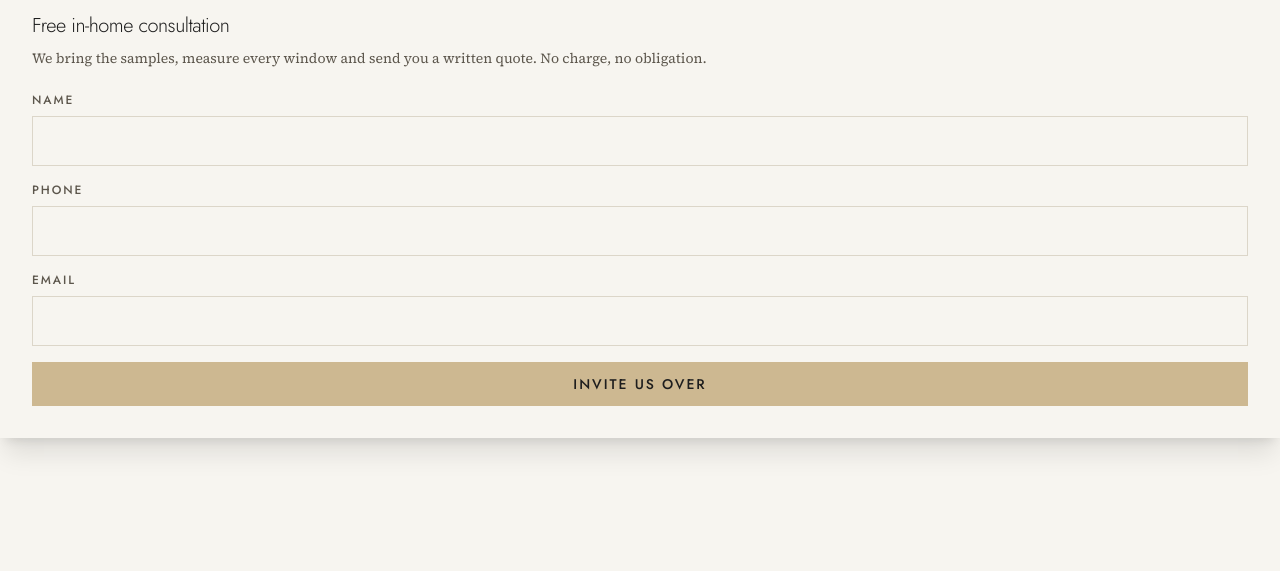
Scenario: HeroForm › shows an accessible error and never reaches the network on a short phone
Type "Dana Reyes" into the field labelled "Name" at [640, 141], box [32,116,1248,166]
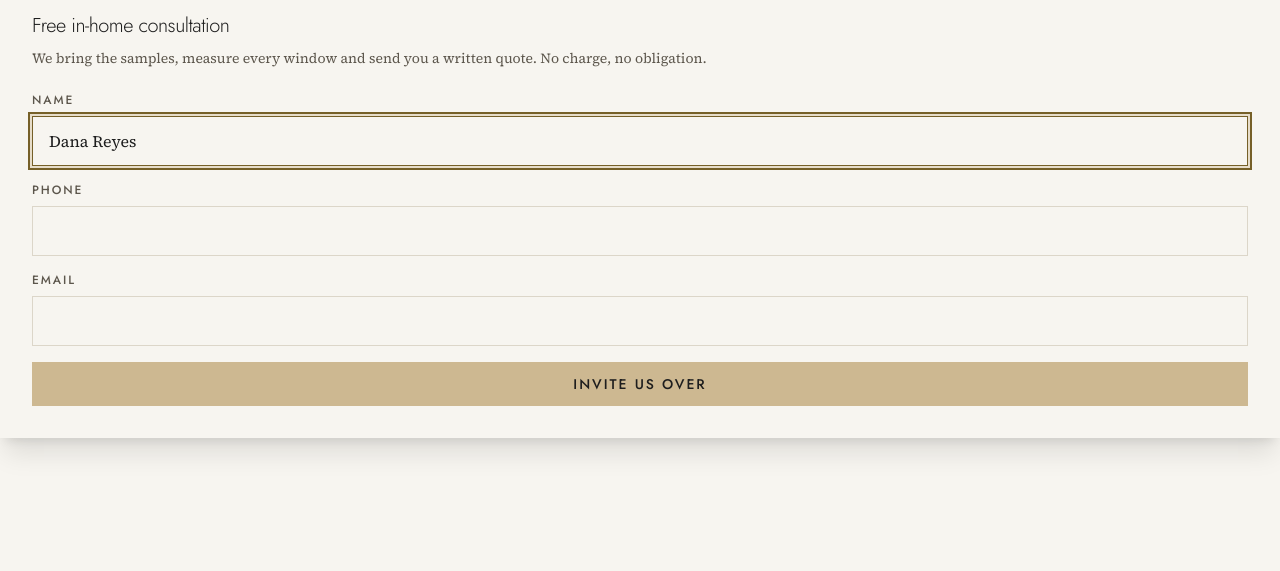
Type "555" into the field labelled "Phone" at [640, 231], box [32,206,1248,256]
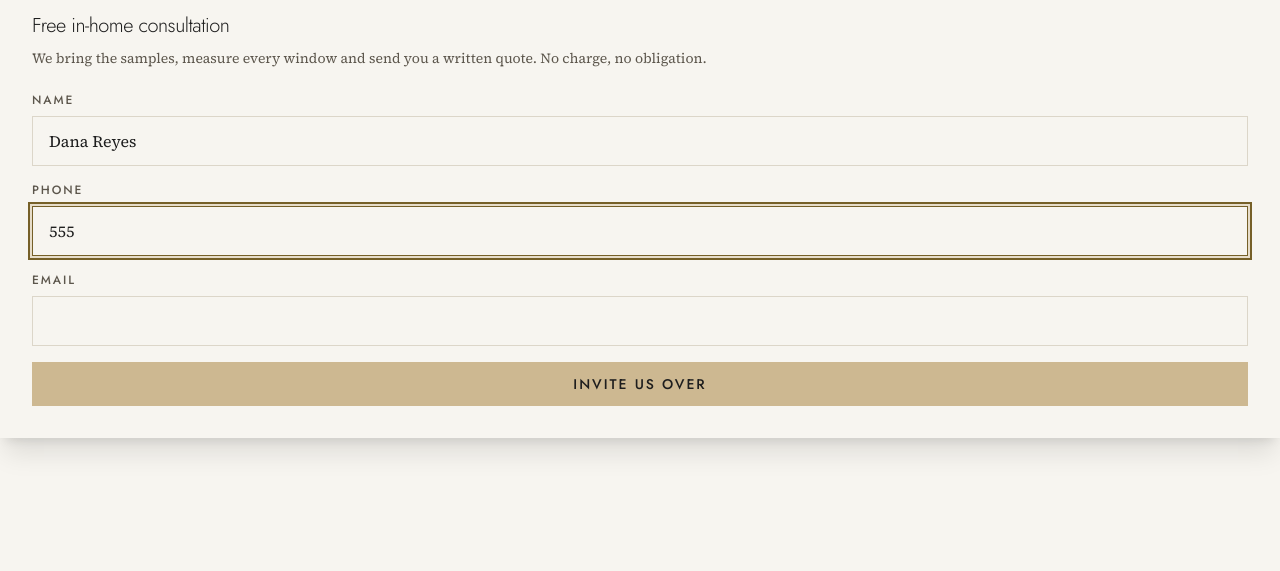
Type "dana@example.com" into the field labelled "Email" at [640, 321], box [32,296,1248,346]
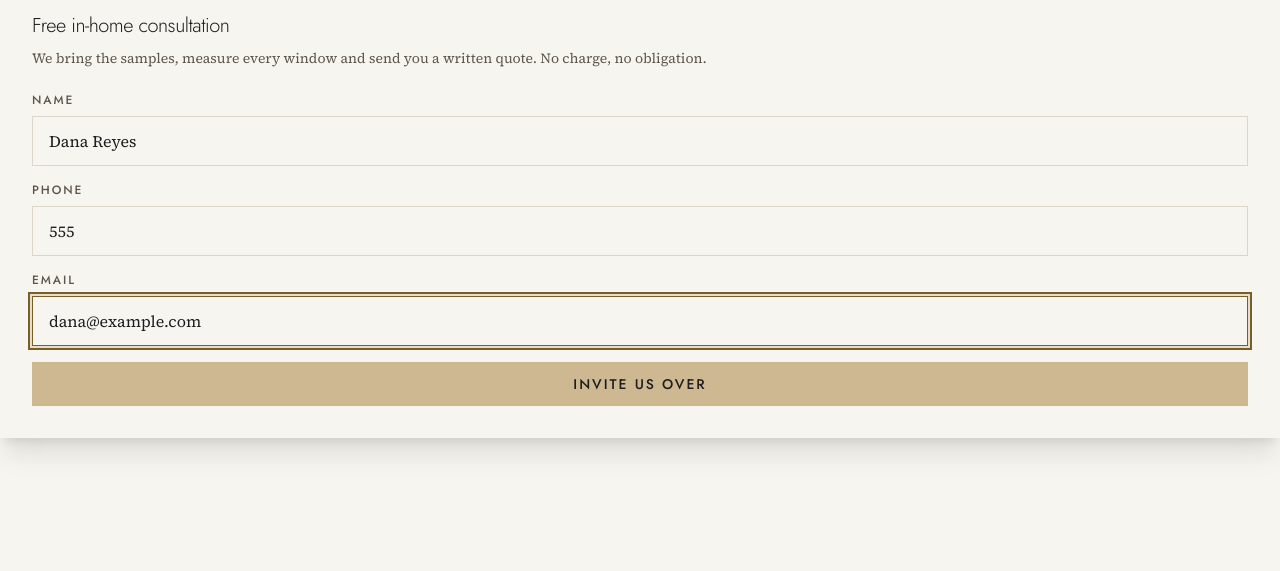
Click the button "Invite Us Over" at [640, 384], box [32,362,1248,406]
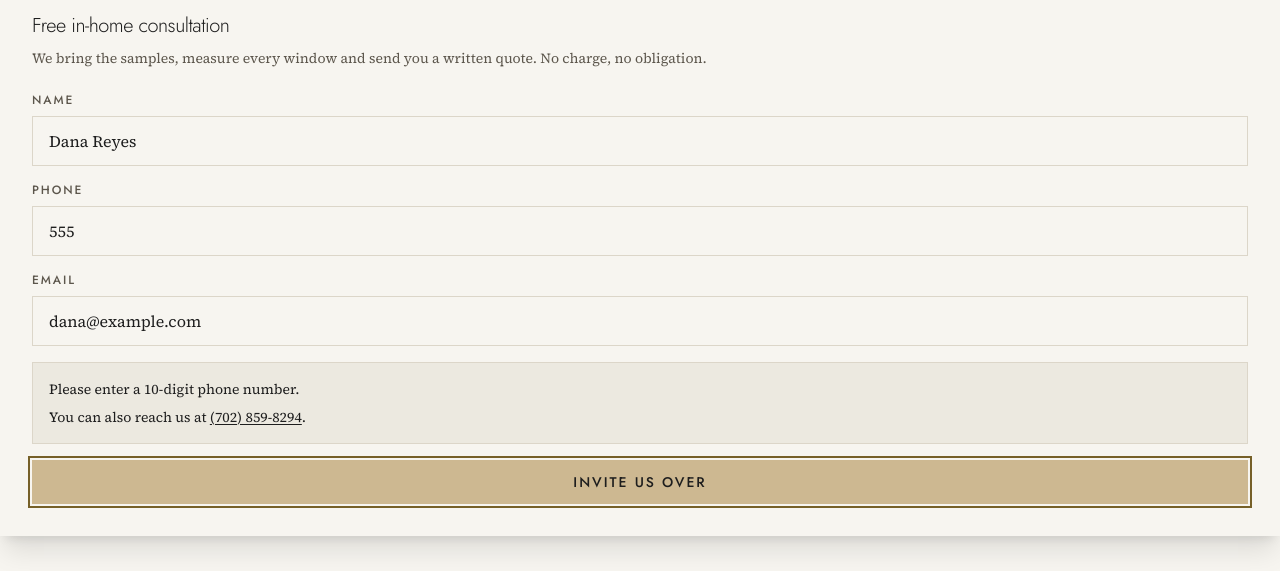
expect the message shows "10-digit": met, box [49,379,299,399]
